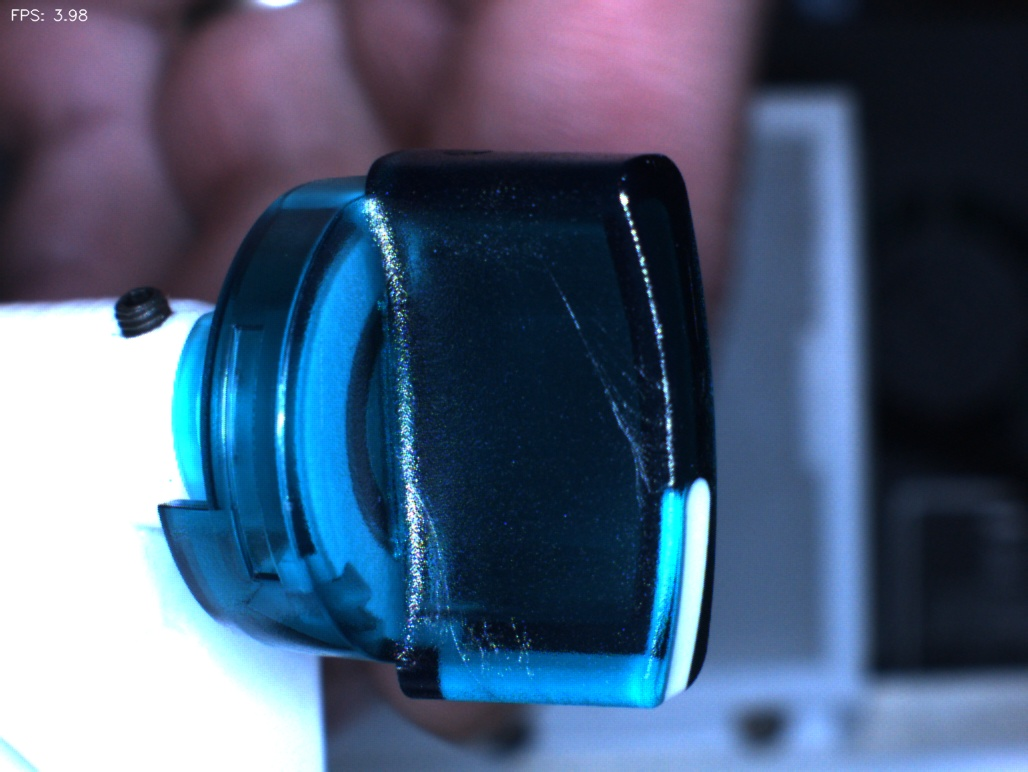Givrage: (566, 324, 672, 507)
